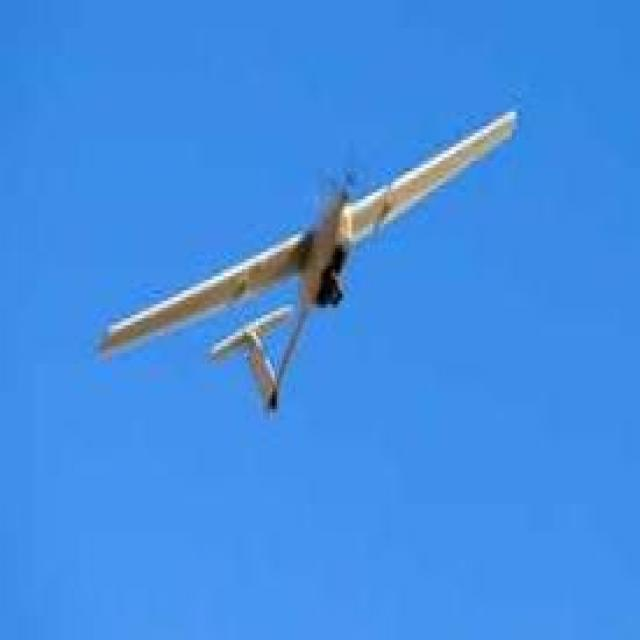iha: (106, 181, 570, 405)
